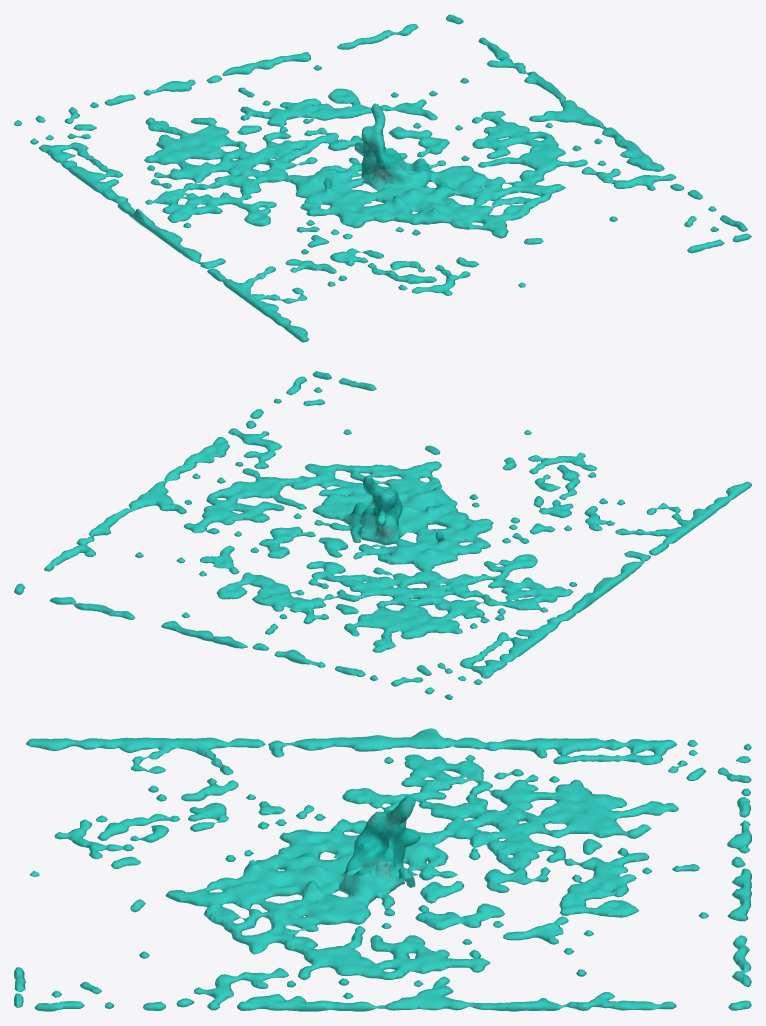
The picture shows the model from 3 angles, top to bottom: view 1: azimuth 30°, elevation 25°; view 2: azimuth 150°, elevation 25°; view 3: azimuth 270°, elevation 25°; orthographic projection. The views are drawn at different scales.
Visible parts, largest first — view 1: Liquid_Domain; view 2: Liquid_Domain; view 3: Liquid_Domain.
Part boxes in pixels (x1=…): Liquid_Domain: x1=14, y1=14, x2=751, y2=342; Liquid_Domain: x1=14, y1=371, x2=751, y2=699; Liquid_Domain: x1=14, y1=728, x2=751, y2=1011.
Bounding box in the file's own units: 12.44 × 1.87 × 14.41.
